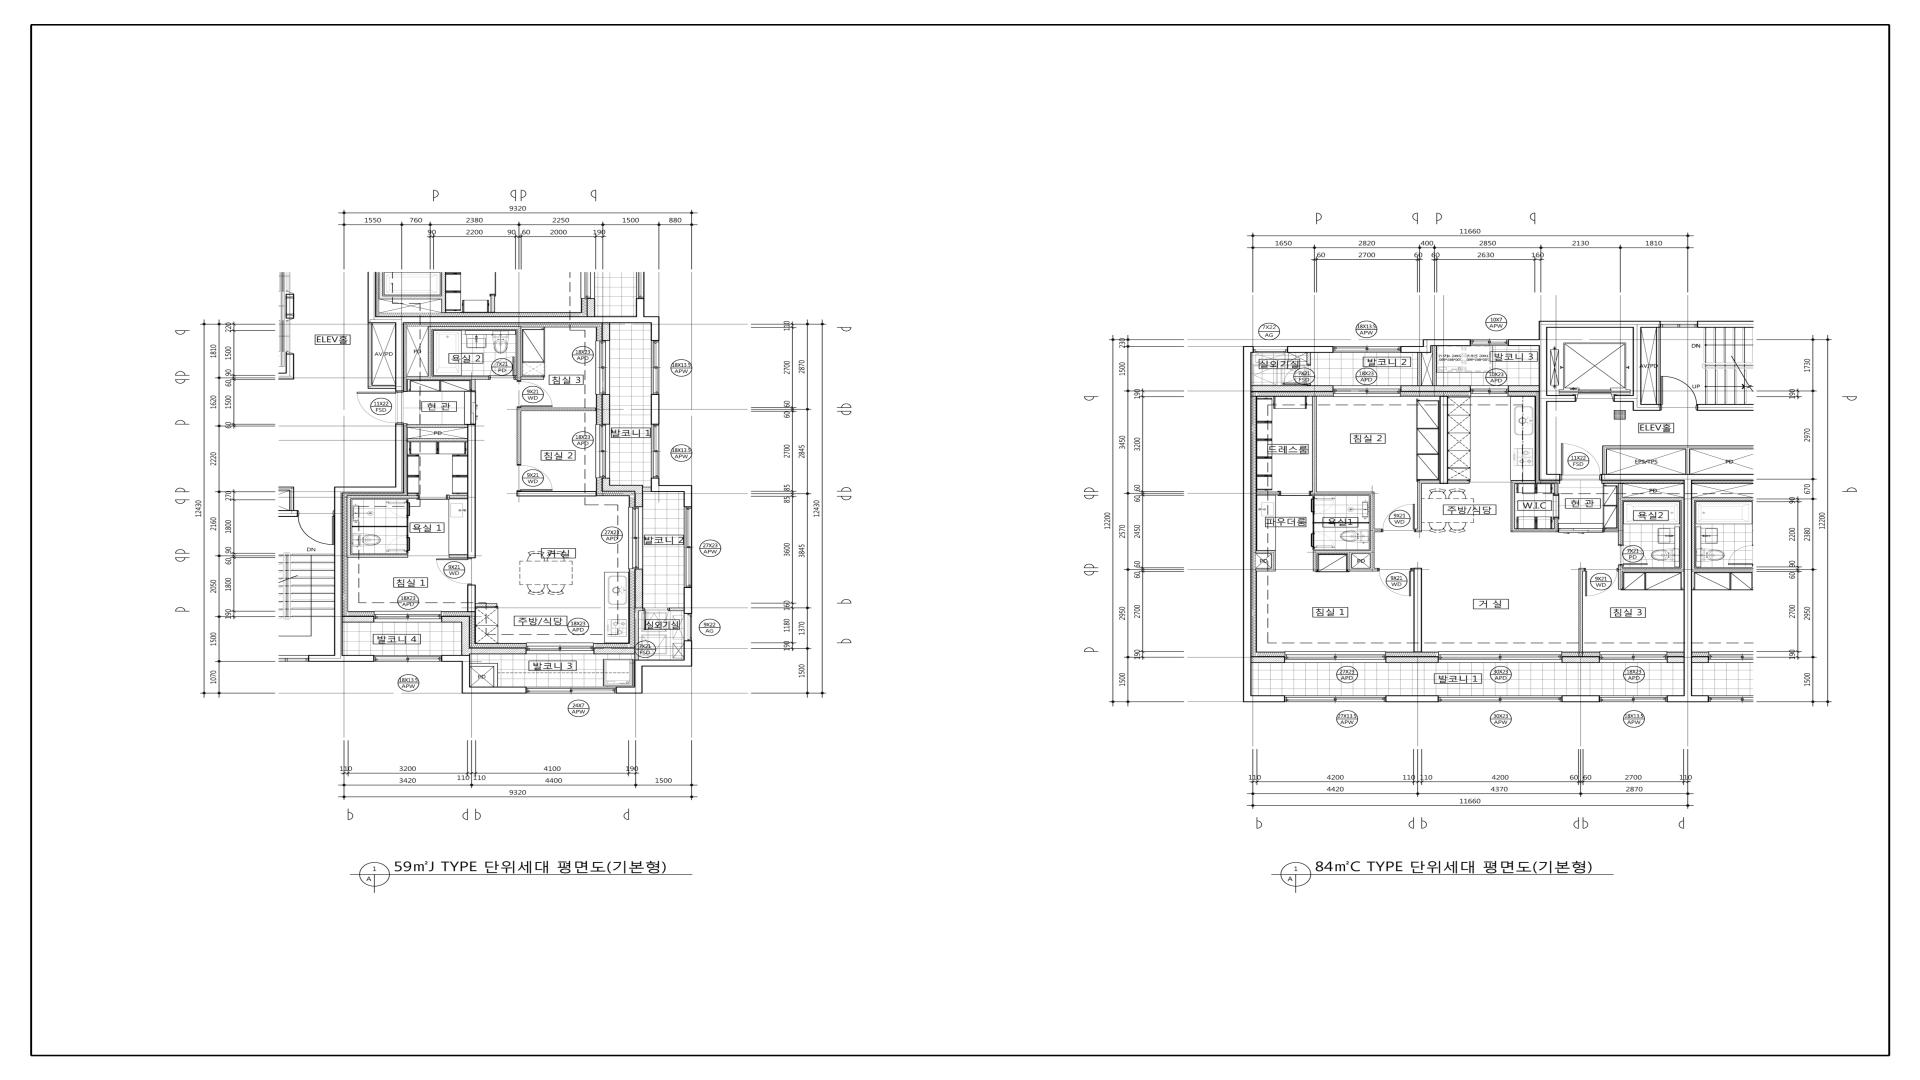door: (357, 391, 404, 424), (1560, 443, 1601, 480), (1660, 376, 1697, 411), (298, 510, 334, 545), (436, 558, 476, 585), (1378, 568, 1413, 597), (517, 381, 553, 408), (1584, 568, 1618, 596), (1382, 504, 1416, 532), (517, 465, 553, 491), (1618, 544, 1648, 566), (488, 356, 515, 380), (1282, 364, 1311, 385), (643, 608, 669, 630), (385, 535, 410, 554), (386, 499, 410, 518), (1311, 496, 1335, 514), (1311, 532, 1335, 550), (1558, 528, 1604, 533), (470, 391, 476, 424), (417, 494, 450, 500), (1553, 493, 1559, 519), (1279, 491, 1310, 496)
wall: (1243, 346, 1253, 702), (376, 316, 660, 323), (1684, 481, 1692, 695), (334, 487, 343, 655), (1539, 328, 1547, 481), (467, 424, 476, 558), (1601, 474, 1754, 481), (1539, 321, 1661, 328), (1440, 396, 1448, 484), (1414, 568, 1422, 652), (1633, 328, 1641, 411), (395, 323, 404, 391), (1602, 445, 1754, 449), (1251, 385, 1333, 392), (395, 424, 404, 486), (1401, 385, 1470, 392), (1312, 396, 1317, 492), (517, 491, 597, 497), (308, 655, 374, 662), (461, 687, 526, 694), (1579, 568, 1584, 656), (368, 271, 376, 323), (1697, 404, 1754, 411), (1698, 321, 1754, 328), (470, 647, 526, 654), (1656, 328, 1661, 404), (1386, 695, 1439, 702), (343, 487, 404, 493), (1386, 656, 1438, 663), (432, 326, 521, 330), (634, 569, 643, 608), (634, 660, 683, 667), (1423, 339, 1471, 346), (407, 376, 488, 380), (1287, 346, 1333, 353), (1618, 484, 1623, 544), (461, 622, 470, 655), (1667, 695, 1709, 702), (1370, 495, 1374, 568), (461, 655, 470, 687), (1416, 484, 1422, 532), (602, 485, 643, 492), (594, 647, 634, 654), (347, 495, 416, 499), (1562, 695, 1600, 702), (368, 323, 372, 389), (1562, 656, 1599, 663), (634, 611, 639, 660), (467, 585, 476, 612), (634, 667, 643, 694), (602, 394, 610, 424), (407, 424, 467, 428), (407, 438, 467, 442), (651, 394, 659, 424), (1251, 656, 1285, 663), (517, 408, 596, 411), (347, 499, 351, 558), (1623, 497, 1681, 501), (1252, 695, 1285, 702), (659, 485, 692, 492), (1313, 550, 1370, 554), (351, 554, 408, 558), (285, 294, 294, 319), (1508, 339, 1539, 346), (343, 616, 374, 623), (1508, 385, 1539, 392), (684, 587, 692, 614), (1681, 497, 1684, 568), (517, 411, 521, 464), (1401, 346, 1431, 353), (684, 641, 692, 667), (517, 330, 521, 381), (1547, 395, 1576, 402), (428, 326, 432, 376), (1432, 346, 1437, 385), (1310, 492, 1374, 495), (1623, 568, 1684, 571), (1511, 484, 1515, 529), (285, 354, 294, 373), (442, 616, 470, 622), (601, 323, 610, 341), (651, 323, 660, 341), (1417, 353, 1422, 385), (1511, 529, 1558, 532), (278, 510, 298, 517), (441, 655, 461, 662), (1614, 395, 1633, 402), (1642, 404, 1660, 411), (616, 687, 634, 694), (1602, 449, 1607, 474), (1685, 449, 1690, 474), (635, 492, 643, 507), (684, 492, 692, 507), (1618, 566, 1623, 589), (1667, 656, 1683, 663), (470, 663, 498, 667), (651, 478, 659, 492), (1511, 480, 1536, 484), (493, 667, 498, 687), (289, 490, 294, 510), (278, 373, 294, 379), (1347, 568, 1378, 571), (372, 385, 395, 389), (521, 376, 544, 380), (1547, 474, 1560, 481), (1271, 554, 1276, 571), (476, 603, 497, 607), (1448, 480, 1469, 484), (1256, 550, 1276, 554), (449, 554, 467, 558), (449, 495, 467, 499), (1347, 554, 1352, 568), (1256, 492, 1279, 495), (1417, 481, 1440, 484), (1313, 554, 1317, 571), (602, 478, 610, 485), (1314, 522, 1369, 523), (471, 380, 476, 391), (352, 526, 406, 527), (278, 487, 294, 490), (1256, 568, 1271, 571), (1307, 353, 1311, 364), (1604, 529, 1618, 532), (670, 608, 684, 611), (1554, 519, 1558, 529), (643, 487, 651, 492), (1554, 483, 1558, 493), (1312, 514, 1314, 532), (406, 518, 408, 535), (634, 608, 643, 611), (1374, 529, 1382, 532), (515, 376, 517, 380)
window: (1438, 651, 1562, 663), (1285, 651, 1386, 663), (628, 507, 643, 569), (1439, 695, 1562, 702), (1333, 385, 1401, 397), (595, 424, 610, 478), (1600, 651, 1667, 663), (526, 643, 594, 654), (374, 611, 442, 622), (596, 341, 610, 394), (1285, 695, 1385, 702), (684, 507, 692, 587), (526, 687, 616, 693), (1600, 695, 1667, 702), (1333, 346, 1400, 353), (374, 655, 441, 662), (1471, 385, 1508, 397), (651, 425, 659, 478), (651, 341, 659, 394), (1471, 339, 1508, 346), (1661, 321, 1697, 328), (1254, 346, 1287, 353), (278, 655, 308, 662), (684, 614, 692, 640)
